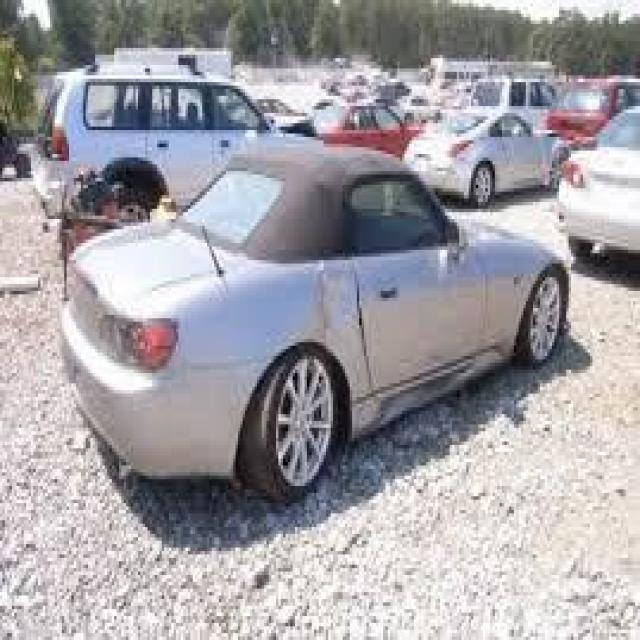damaged: (371, 356, 474, 424)
